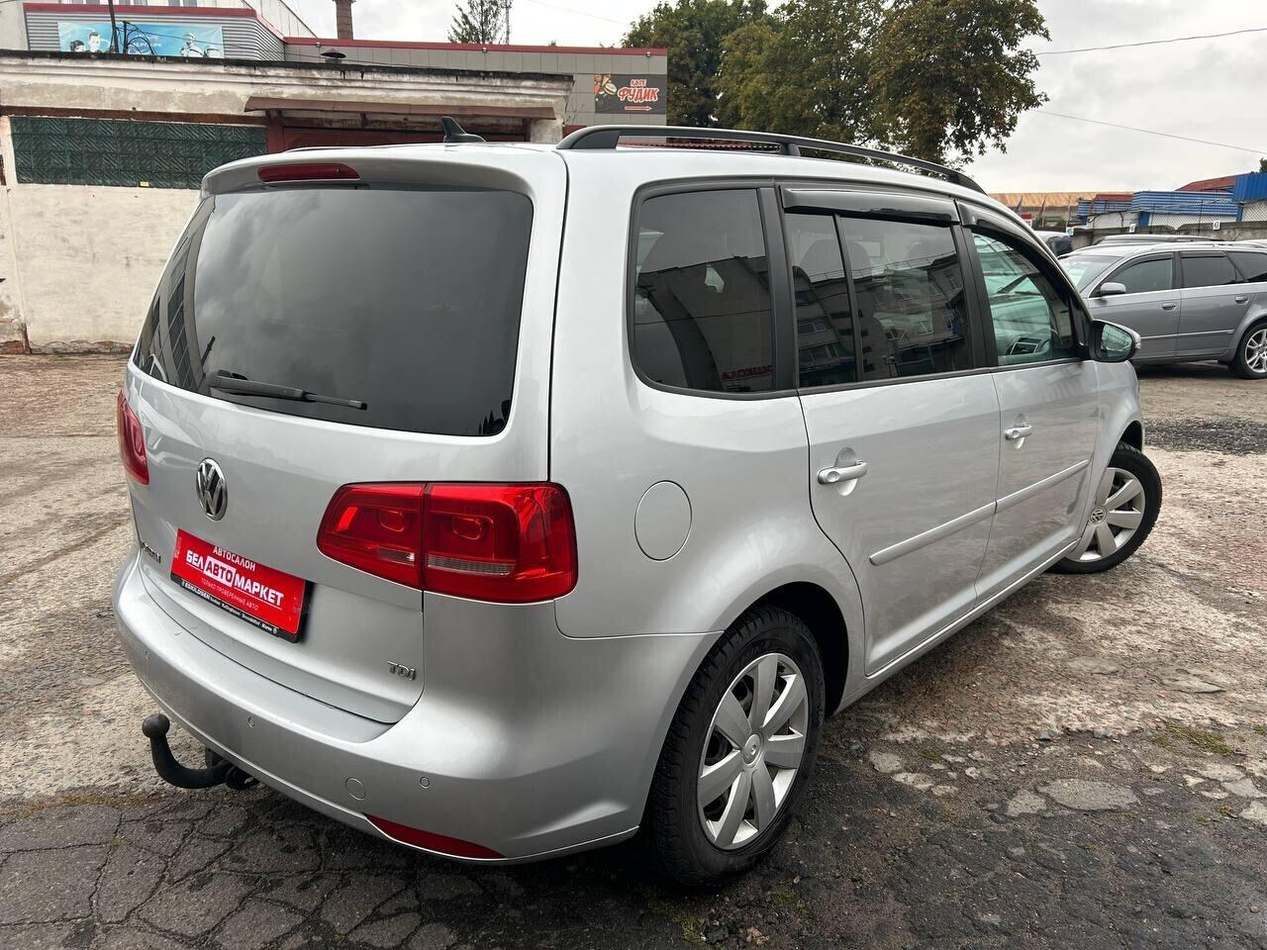Touran_2010-2015: (109, 136, 1163, 888)
